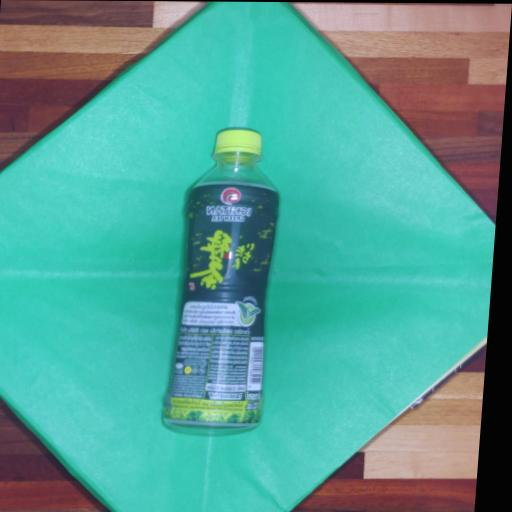bottle: (152, 114, 310, 460)
